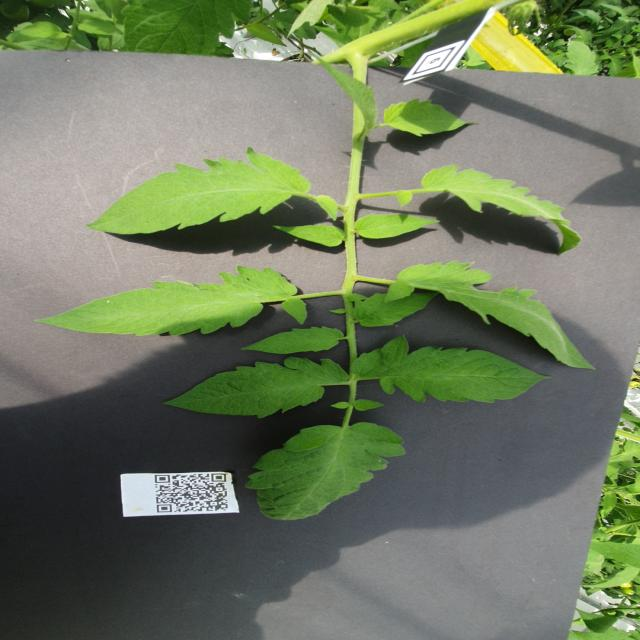Healthy Leaf: (385, 261, 601, 372), (85, 148, 314, 237), (33, 265, 309, 338), (244, 423, 407, 522), (420, 164, 585, 257), (352, 334, 554, 405), (164, 357, 353, 419), (385, 99, 479, 138), (241, 327, 347, 356), (356, 213, 444, 241), (271, 224, 347, 249), (564, 40, 601, 77), (248, 24, 288, 49)
